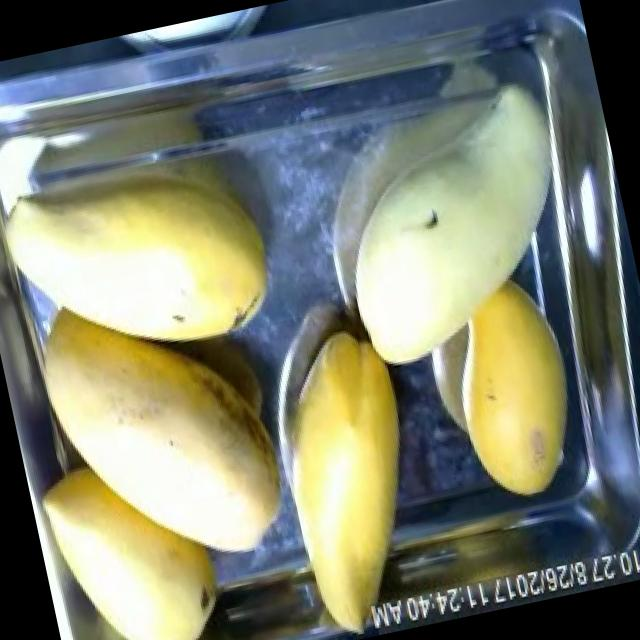fruit: (22, 266, 308, 596), (310, 106, 602, 392), (252, 308, 456, 640), (0, 122, 289, 331), (404, 255, 606, 522), (23, 426, 246, 640)
